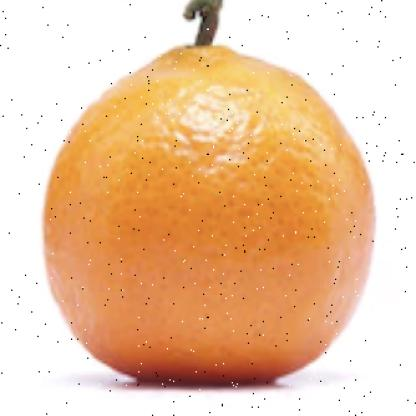fresh: (42, 42, 375, 386)
